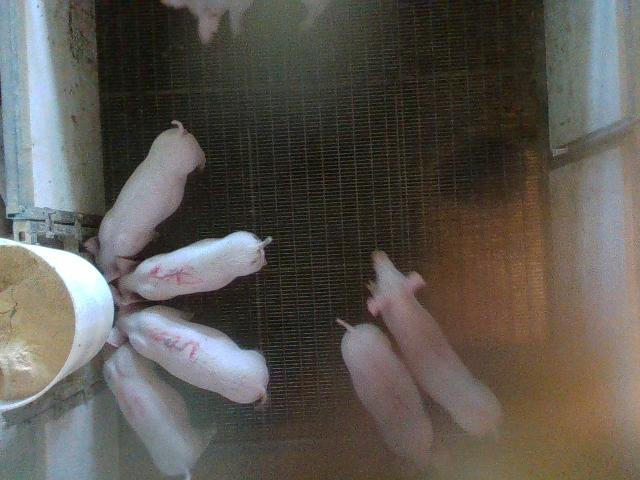pig-1: (341, 321, 432, 467)
pig-3: (108, 304, 269, 403)
pig-4: (104, 342, 215, 478)
pig-5: (118, 231, 272, 303)
